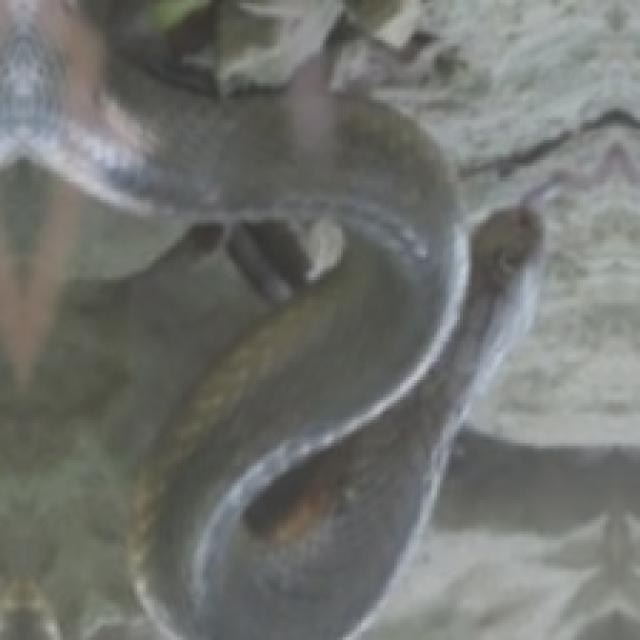king cobra: (0, 0, 637, 637), (366, 206, 546, 617)
